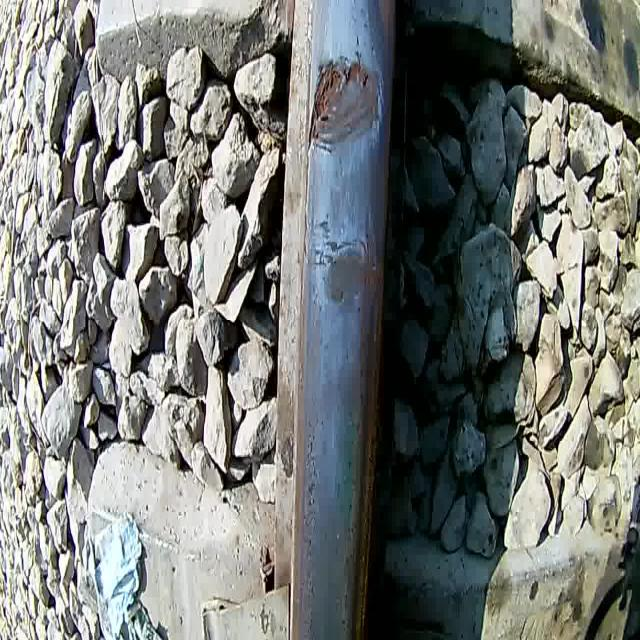Squats: (302, 48, 387, 170), (308, 215, 382, 308)
